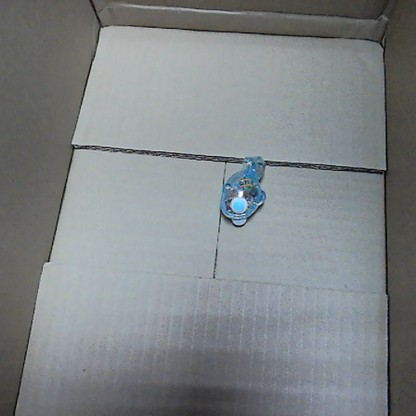bluefish: (219, 153, 267, 228)
